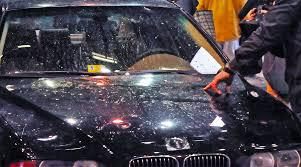Front-Windscreen-Damage: (3, 6, 200, 71)
bonnet-dent: (30, 80, 260, 147)
